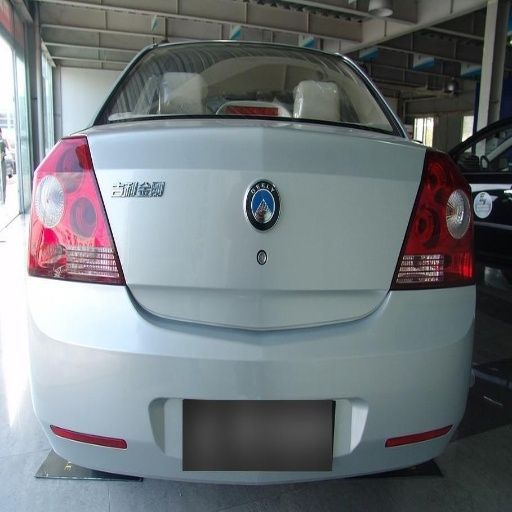back_bumper: (3, 276, 477, 462)
back_right_light: (394, 157, 472, 286)
tailgate: (88, 141, 201, 318), (295, 163, 419, 324)
